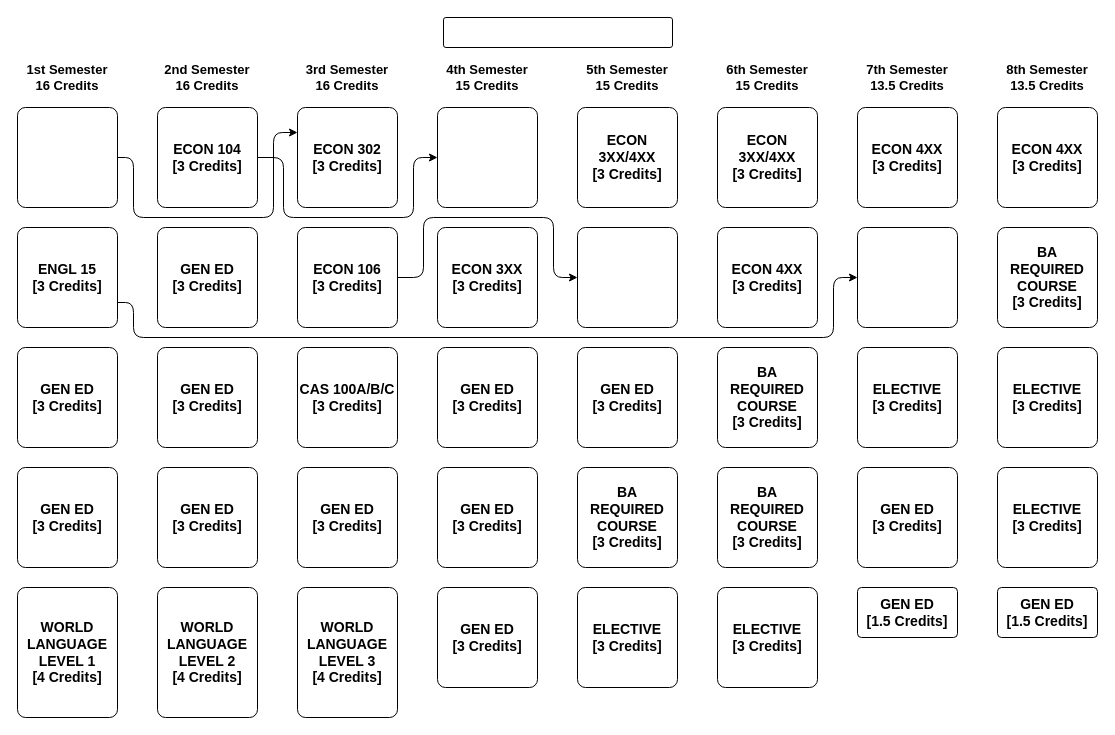
Image size: 1115x735. Some labels were removed from this diagram. Each missing label, with the centre of its shape:
"ECON 102 [3 Credits]" belongs at (x=67, y=157).
"ECON 304 [3 Credits]" belongs at (x=487, y=157).
"ECON 306 [3 Credits]" belongs at (x=627, y=277).
"Economics BA" belongs at (x=557, y=32).
"ENGL 202A/B/C/D [3 Credits]" belongs at (x=907, y=277).
